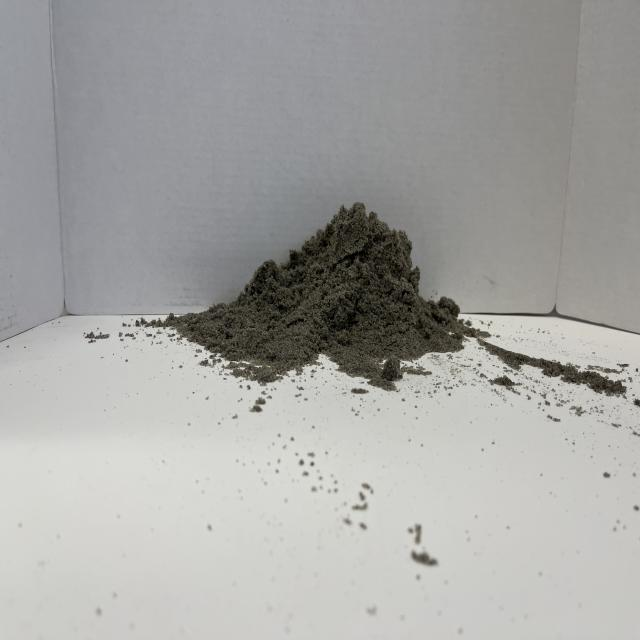sand: (146, 188, 493, 392)
